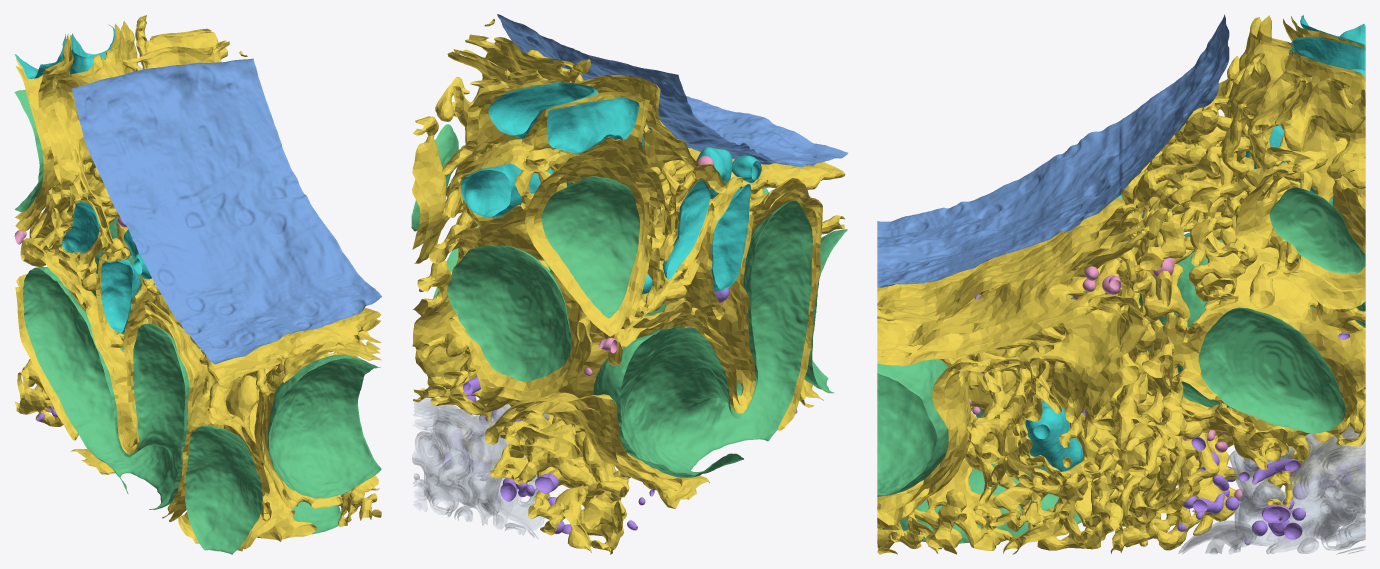
Rendered from liver_cell_organelles.glb.
3 views of the same model, side by side, from view 1: azimuth 30°, elevation 25°; view 2: azimuth 150°, elevation 25°; view 3: azimuth 270°, elevation 25° (orthographic). The views are drawn at different scales.
Visible parts, largest first — view 1: nucleus, er, mitochondria, peroxisome; view 2: er, mitochondria, peroxisome, plasma_membrane, nucleus, endosome; view 3: er, mitochondria, nucleus, plasma_membrane, peroxisome, endosome, vesicle.
Boxes of the visible parts, left/top/right/bottom form: nucleus: left=72, top=58, right=381, bottom=364; er: left=15, top=15, right=381, bottom=551; mitochondria: left=14, top=89, right=381, bottom=554; peroxisome: left=14, top=24, right=200, bottom=348; er: left=412, top=19, right=845, bottom=554; mitochondria: left=411, top=124, right=847, bottom=477; peroxisome: left=460, top=82, right=761, bottom=294; plasma_membrane: left=412, top=397, right=550, bottom=538; nucleus: left=497, top=14, right=847, bottom=167; endosome: left=419, top=288, right=797, bottom=534; er: left=877, top=15, right=1365, bottom=554; mitochondria: left=877, top=187, right=1365, bottom=543; nucleus: left=877, top=14, right=1229, bottom=287; plasma_membrane: left=1178, top=427, right=1365, bottom=554; peroxisome: left=1024, top=15, right=1365, bottom=476; endosome: left=974, top=294, right=1349, bottom=545; vesicle: left=969, top=258, right=1245, bottom=512.
Bounding box in the file's own units: 1432 × 2992 × 2992.
